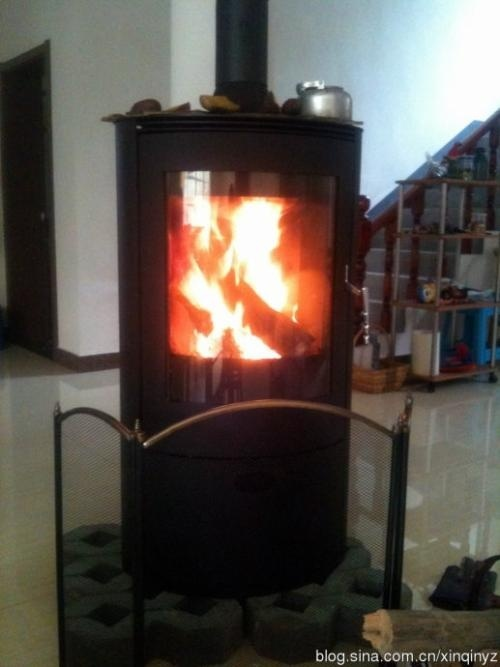fire: (178, 186, 294, 361)
